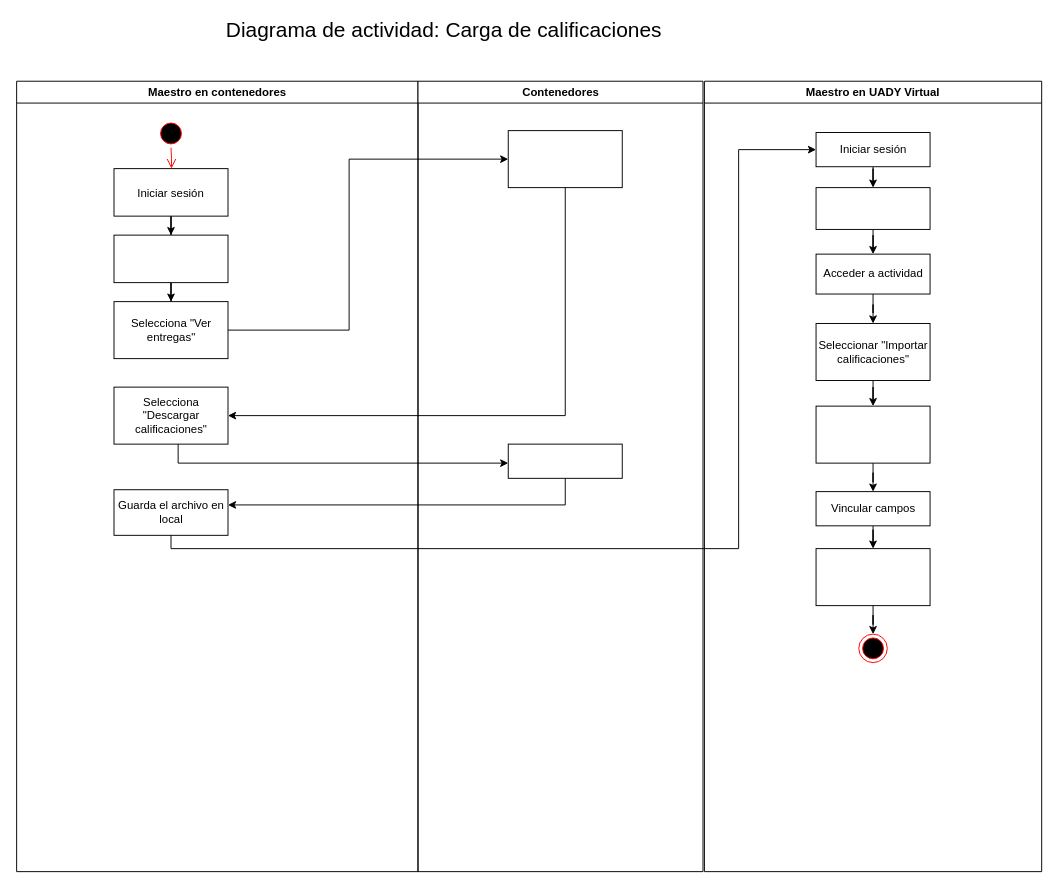
The diagram is 1058 pixels wide and 888 high, and some of its shapes have lost their labels. The centre of each missing label's shape, as x and y in pixels:
Acceder a un curso: (170,258)
Acceder al curso: (872,208)
Cargar archivo de calificaciones CSV: (872,434)
Descargar calificaciones en CSV: (564,460)
Mostrar tabla con calificaciones por alumno: (564,159)
Seleccionar "Actualizar libro de calificaciones": (872,577)
